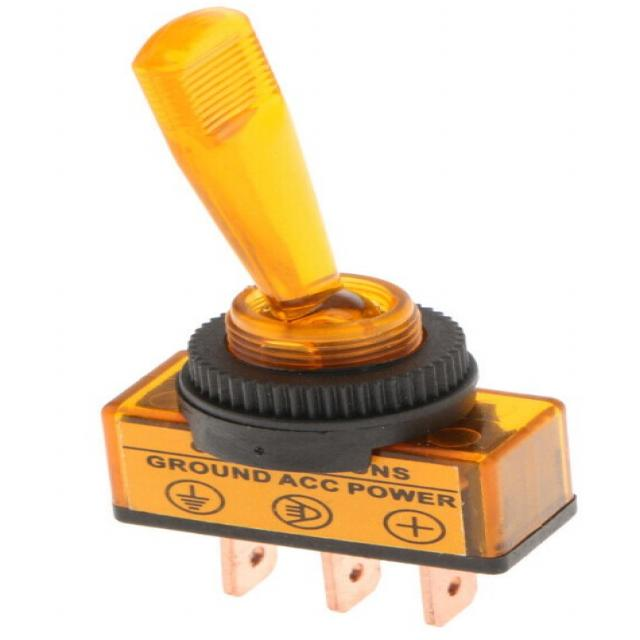toggle switch: (133, 7, 484, 431)
